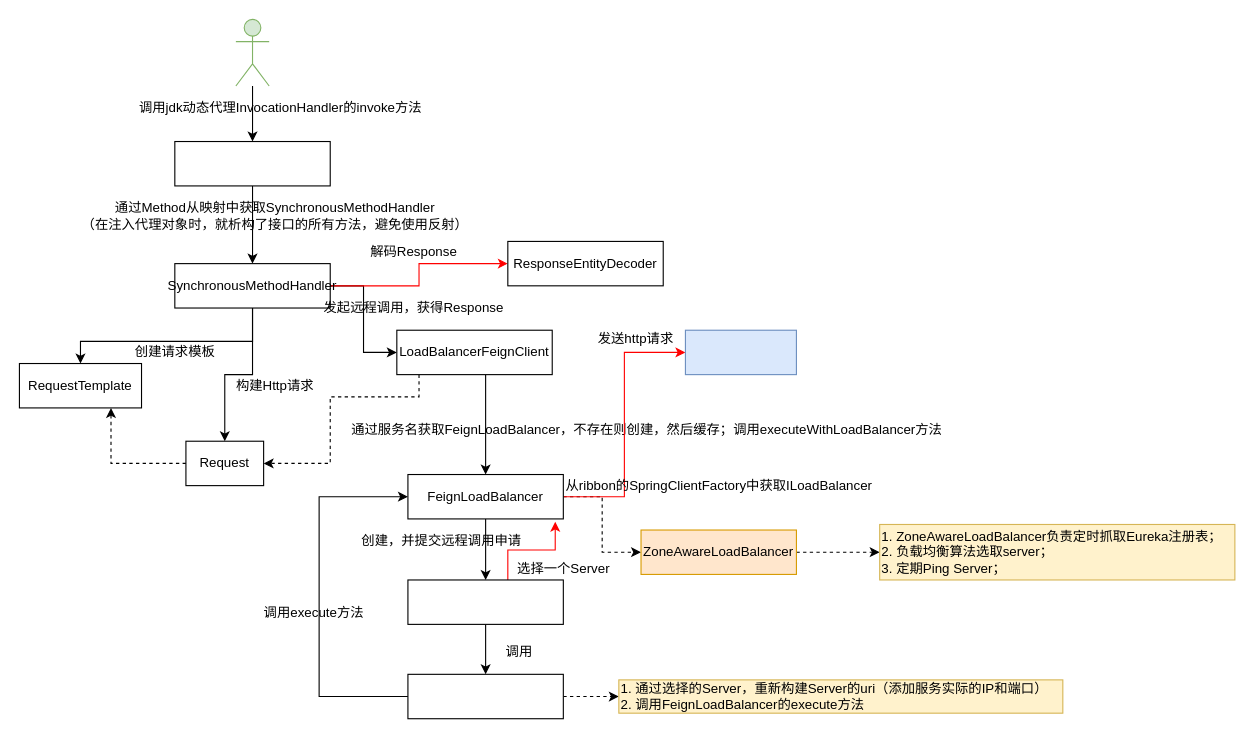
Some shapes in this 1254 by 738 pixel diagram are drawn without their labels. Here are the shapes that lost their labels. From the top down, the centre of each, then its label:
[252,163]: FeignInvocationHandler
[740,352]: Client.Default
[485,601]: LoadBalancerCommand
[485,696]: ServerOperation
